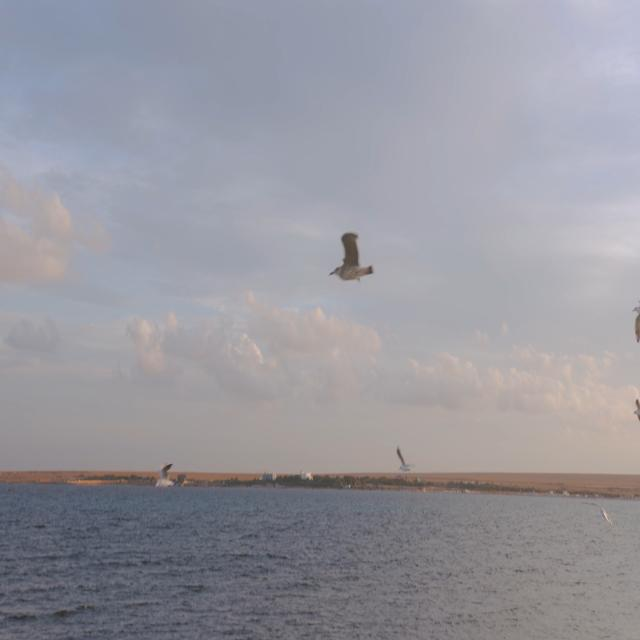bird: (325, 224, 380, 293), (146, 461, 188, 499), (389, 440, 419, 484)
